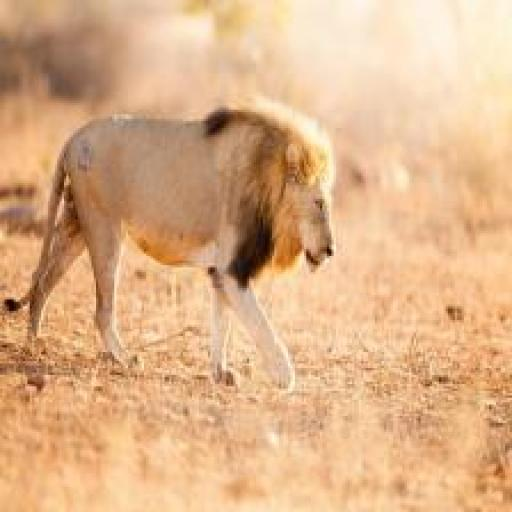lion: (220, 85, 346, 296)
